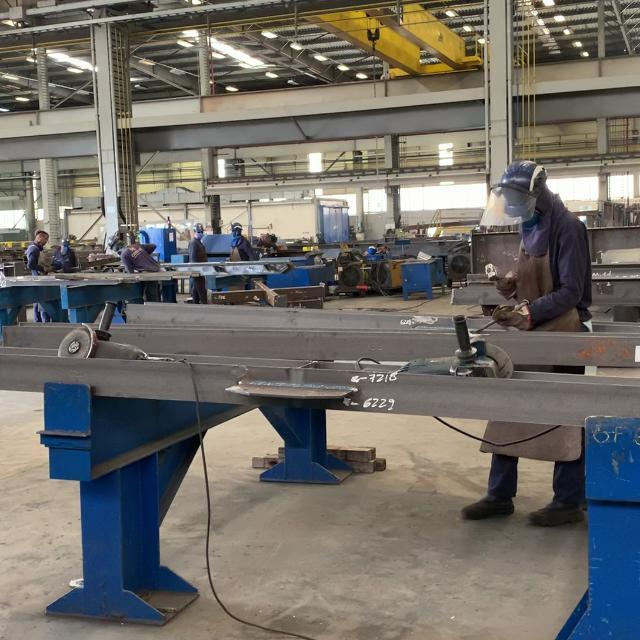eye-glass: (479, 183, 535, 226)
face-shield: (491, 304, 533, 329), (495, 275, 518, 303)
glove: (499, 159, 546, 190)
mask: (456, 159, 587, 527)
safety-shoe: (530, 494, 584, 528), (460, 492, 513, 522)
